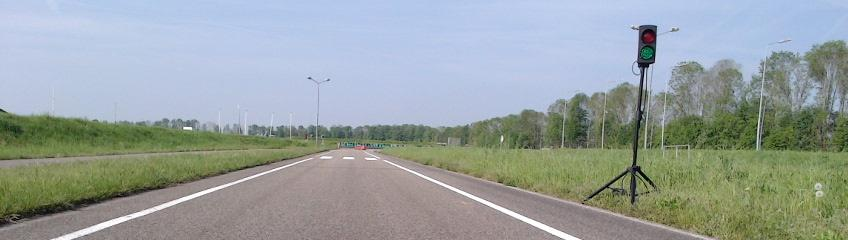TrafficLight-green: (638, 25, 657, 64)
